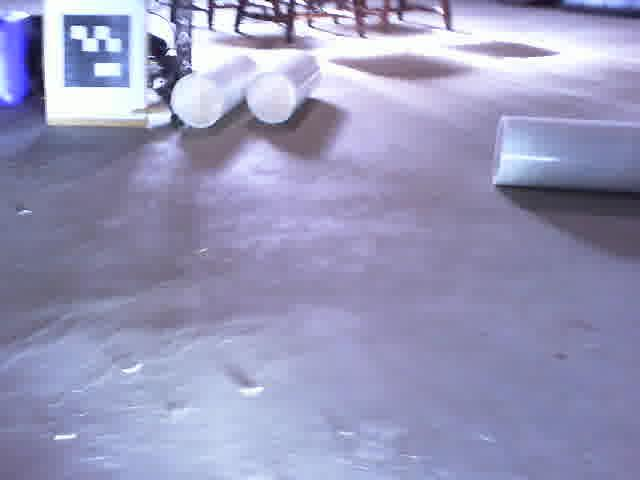coral: (492, 114, 640, 195), (172, 53, 255, 129), (247, 53, 323, 126)
